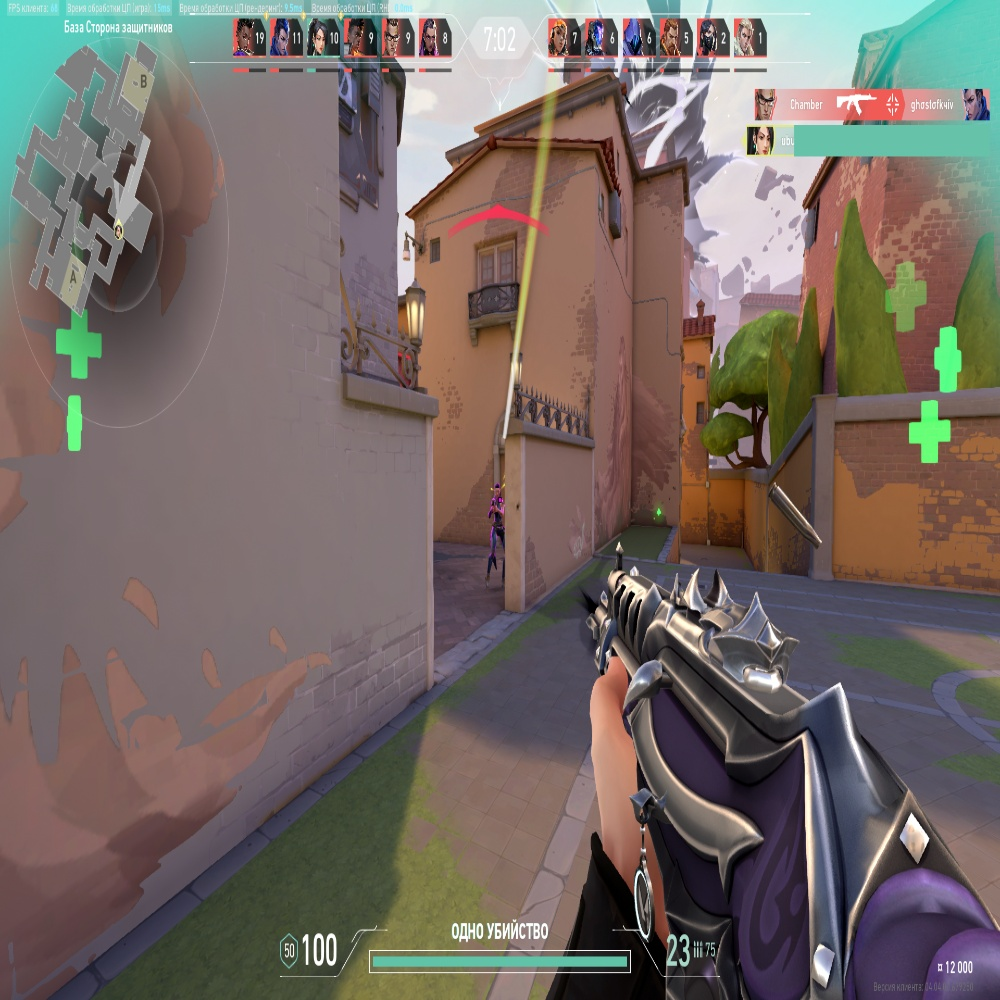body: (492, 502, 503, 527)
head: (494, 485, 500, 498)
